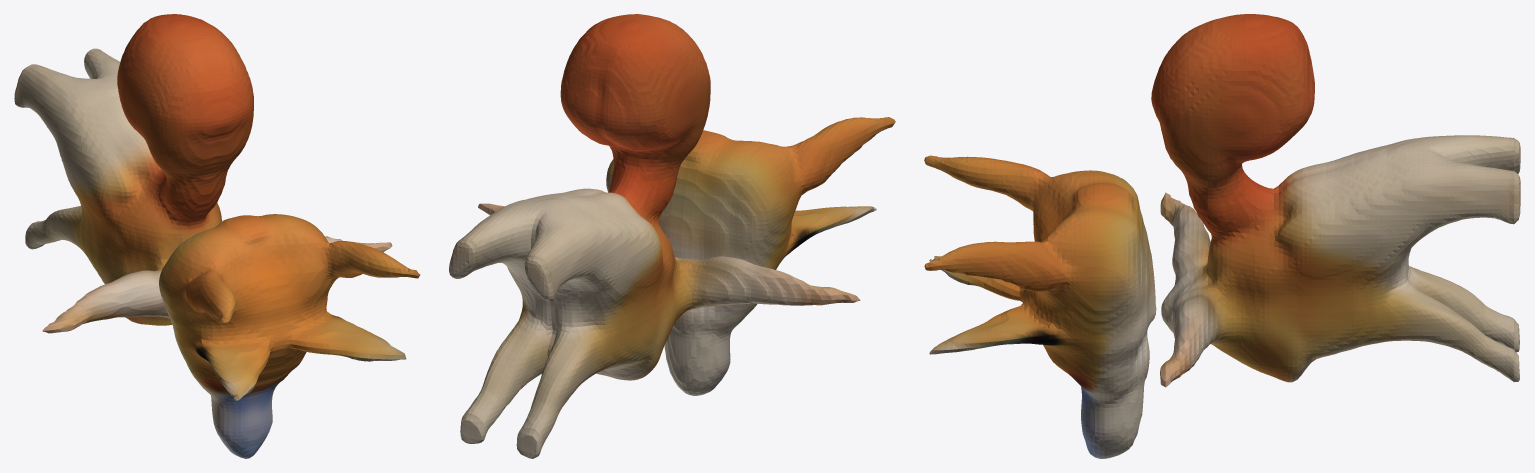
Rendered from sample_cute_magical_fox.glb.
The picture shows the model from 3 angles, left to right: view 1: azimuth 30°, elevation 25°; view 2: azimuth 150°, elevation 25°; view 3: azimuth 270°, elevation 25°; orthographic projection. The views are drawn at different scales.
Visible parts, largest first — view 1: 012d768d-8745-4a2e-aeb4-44457e8bffe3.ply; view 2: 012d768d-8745-4a2e-aeb4-44457e8bffe3.ply; view 3: 012d768d-8745-4a2e-aeb4-44457e8bffe3.ply.
Boxes of the visible parts, x1,y1,x2,y2 form: 012d768d-8745-4a2e-aeb4-44457e8bffe3.ply: [14, 14, 420, 458]; 012d768d-8745-4a2e-aeb4-44457e8bffe3.ply: [449, 14, 895, 458]; 012d768d-8745-4a2e-aeb4-44457e8bffe3.ply: [924, 14, 1520, 458].
Bounding box in the file's own units: 1.51 × 1.59 × 1.96.
